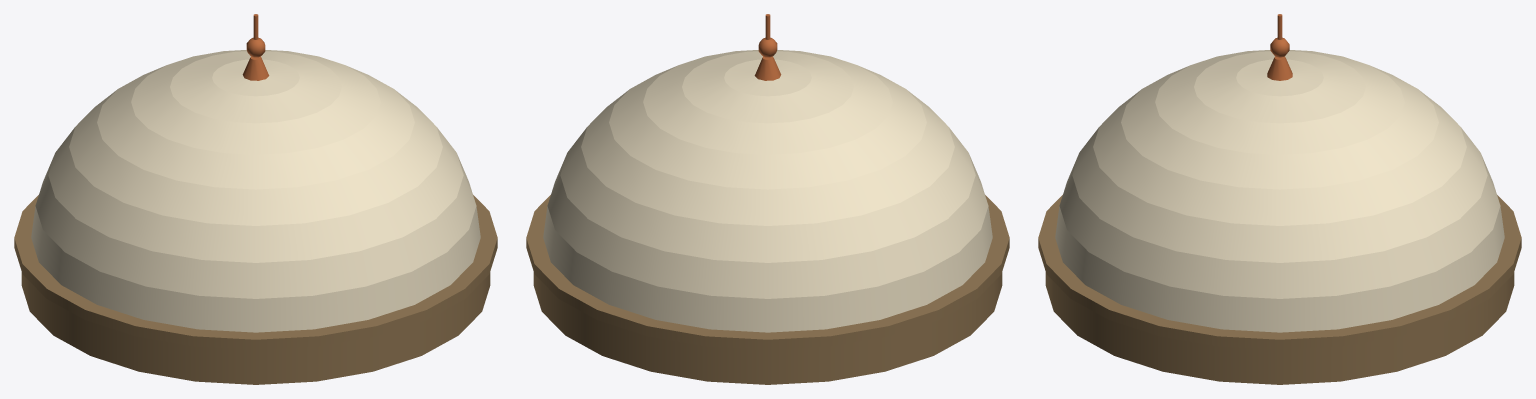
File: dc_dome.glb
The picture shows the model from 3 angles, left to right: view 1: azimuth 30°, elevation 25°; view 2: azimuth 150°, elevation 25°; view 3: azimuth 270°, elevation 25°; orthographic projection.
Visible parts, largest first — view 1: dc_dome; view 2: dc_dome; view 3: dc_dome.
Part boxes in pixels (x1=…): dc_dome: x1=14, y1=14, x2=497, y2=384; dc_dome: x1=526, y1=14, x2=1009, y2=384; dc_dome: x1=1038, y1=14, x2=1521, y2=384.
Bounding box in the file's own units: 5.16 × 3.19 × 5.16.
